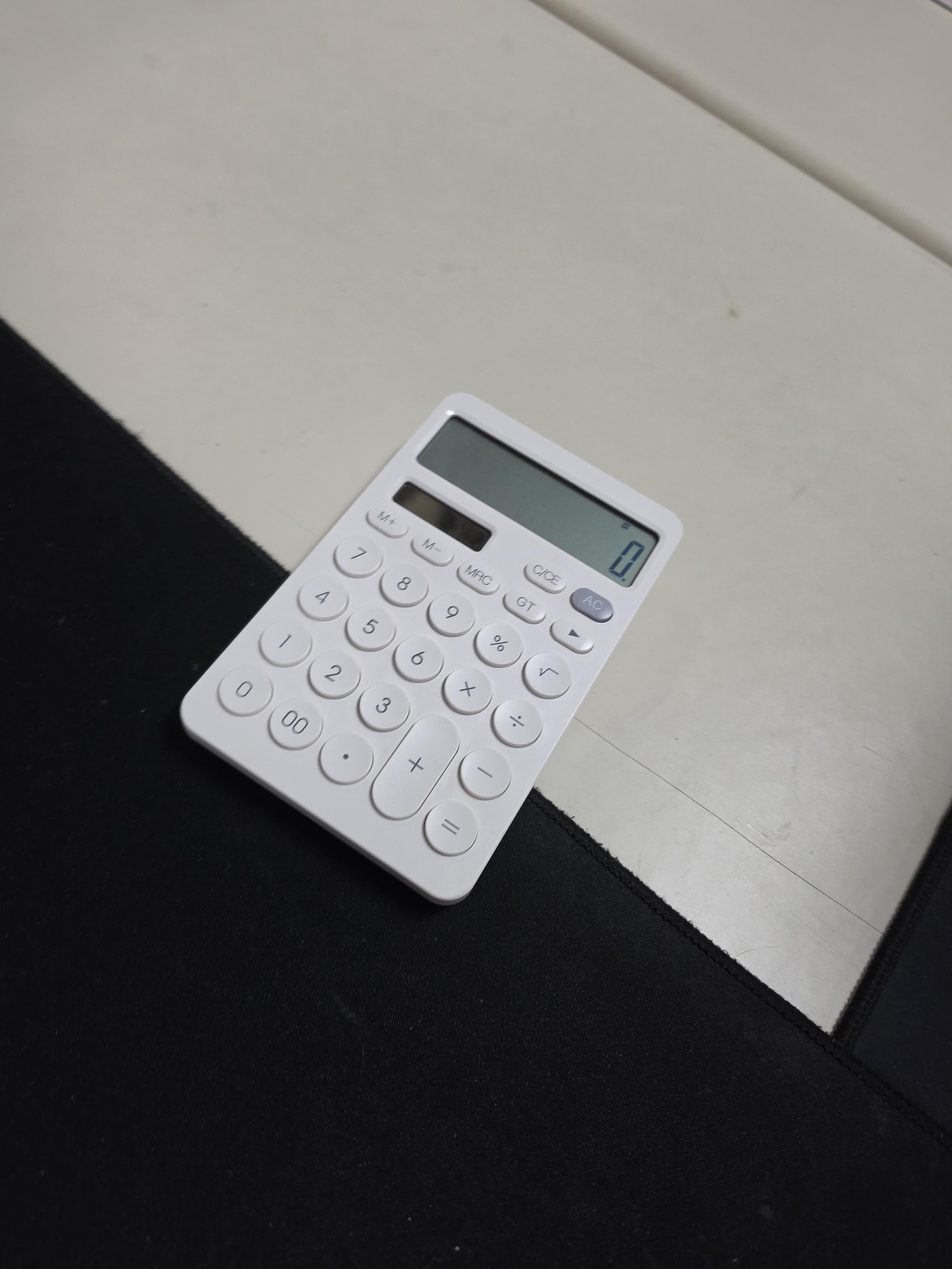calculator: (179, 392, 684, 905)
